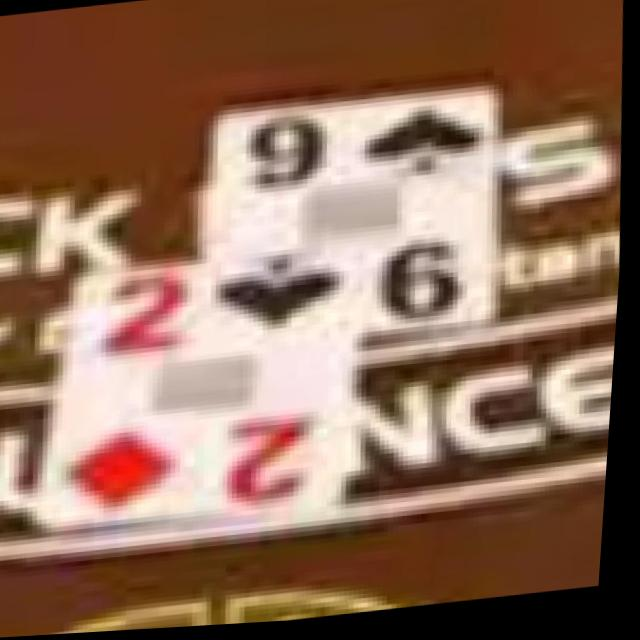Card-2: (49, 269, 358, 526)
Card-9: (213, 91, 496, 346)
